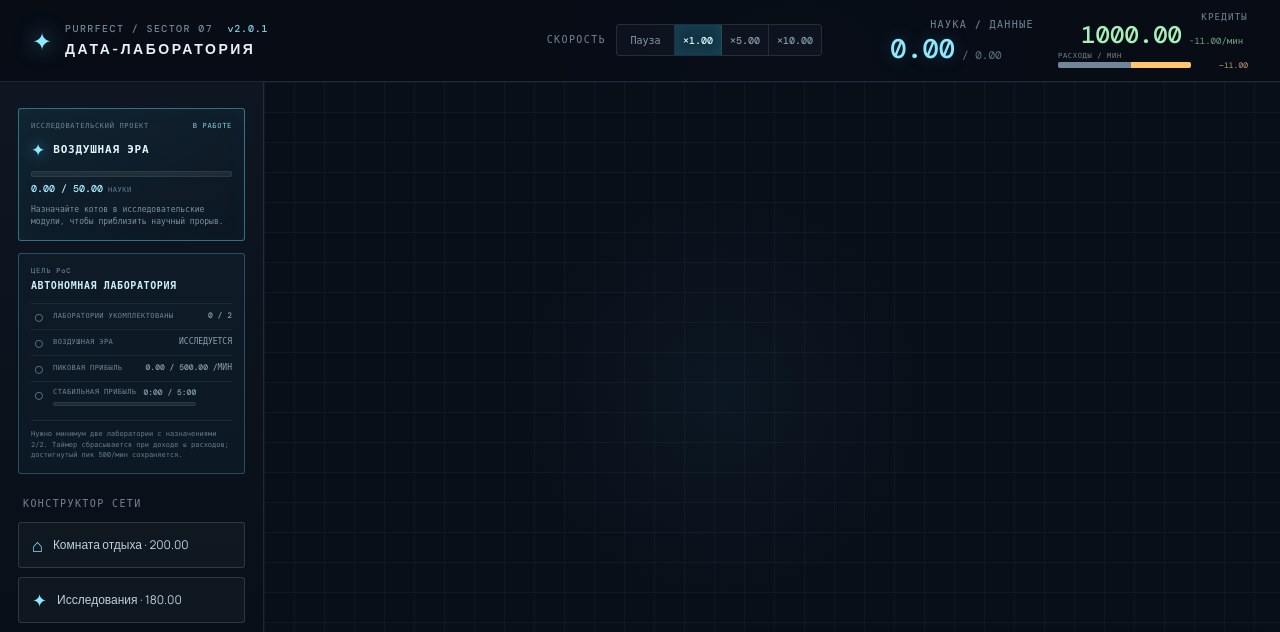
Test case: App economy controls › shows prices from GAME_BALANCE and reveals ×100 only through the brand mark
expect the text with class "app-version" reads "v2.0.1": met, box [228,22,268,35]
expect the text "1000.00" is shown: met, box [1081,19,1182,50]
Step 1. Click the button with class "brand-mark" → (42, 40), box [32,24,52,57]
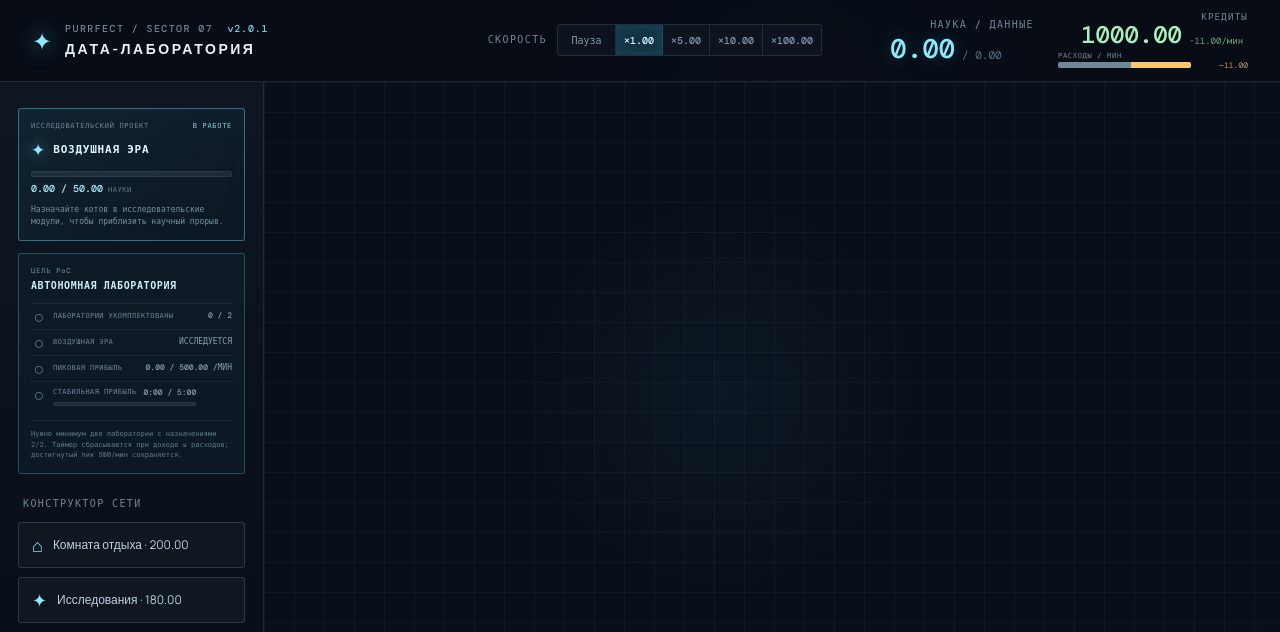
expect the elements with class "speed-button" read "Пауза", "×1.00", "×5.00", "×10.00", "×100.00", in this order: met, box [558,26,616,56]; [616,26,663,56]; [663,26,710,56]; [710,26,763,56]; [763,26,821,56]
